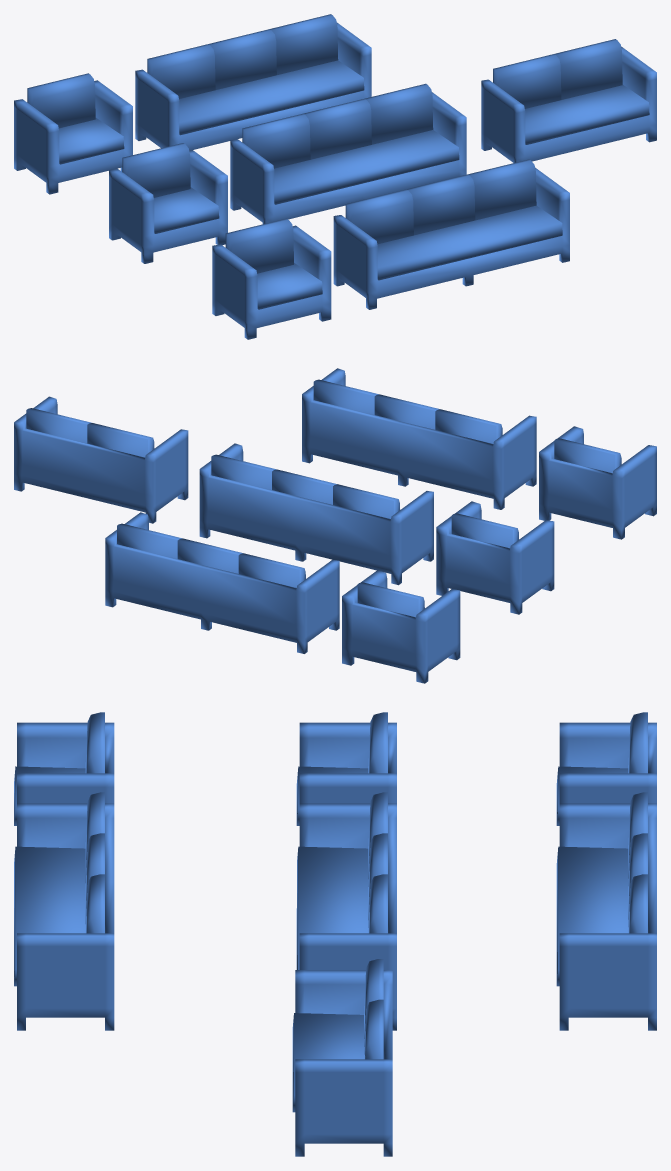
The model's file is old sofas.obj.
3 renders of one model, top to bottom at view 1: azimuth 30°, elevation 25°; view 2: azimuth 150°, elevation 25°; view 3: azimuth 270°, elevation 25°, orthographic. The views are drawn at different scales.
Visible parts, largest first — view 1: couchinbase01_low, couchinbase02_low, couchinbase03_low, couchin01_low, couchin02_low, couchin_low, couchinbase_low, couchinbasesingle01_low, couchinbasesingle02_low, couchinbasesingle_low, couchin03_low, Couchinr01_low (+16 smaller); view 2: couchinbase02_low, couchinbase01_low, couchinbase_low, couchinbase03_low, couchinbasesingle_low, couchinbasesingle02_low, couchinbasesingle01_low, Couchinsingle02_low, Couchinsingle_low, Couchinsingle01_low, Couchinl_low, Couchinl01_low (+9 smaller); view 3: couchinbase01_low, couchinbase_low, couchinbase03_low, couchinbase02_low, couchinbasesingle01_low, couchinbasesingle02_low, couchinbasesingle_low, couchin_low, couchin02_low, couchin01_low, couchin03_low, Couchinsingle_low (+16 smaller).
Part boxes in pixels (left/top/right/bottom): couchinbase01_low: left=333, top=167, right=569, bottom=309; couchinbase02_low: left=230, top=92, right=466, bottom=224; couchinbase03_low: left=481, top=46, right=656, bottom=162; couchin01_low: left=377, top=205, right=562, bottom=280; couchin02_low: left=274, top=130, right=459, bottom=204; couchin_low: left=179, top=60, right=364, bottom=135; couchinbase_low: left=135, top=22, right=371, bottom=150; couchinbasesingle01_low: left=212, top=225, right=331, bottom=339; couchinbasesingle02_low: left=109, top=150, right=227, bottom=263; couchinbasesingle_low: left=14, top=80, right=132, bottom=194; couchin03_low: left=525, top=85, right=649, bottom=144; Couchinr01_low: left=468, top=159, right=536, bottom=220; couchinbase02_low: left=199, top=443, right=433, bottom=585; couchinbase01_low: left=302, top=368, right=536, bottom=509; couchinbase_low: left=105, top=512, right=339, bottom=653; couchinbase03_low: left=14, top=396, right=188, bottom=523; couchinbasesingle_low: left=342, top=570, right=460, bottom=683; couchinbasesingle02_low: left=436, top=501, right=554, bottom=614; couchinbasesingle01_low: left=539, top=426, right=656, bottom=539; Couchinsingle02_low: left=451, top=513, right=518, bottom=548; Couchinsingle_low: left=357, top=582, right=424, bottom=617; Couchinsingle01_low: left=554, top=438, right=621, bottom=473; Couchinl_low: left=238, top=553, right=305, bottom=587; Couchinl01_low: left=435, top=409, right=502, bottom=443; couchinbase01_low: left=17, top=803, right=114, bottom=1030; couchinbase_low: left=559, top=803, right=656, bottom=1030; couchinbase03_low: left=295, top=970, right=392, bottom=1156; couchinbase02_low: left=299, top=803, right=396, bottom=1030; couchinbasesingle01_low: left=17, top=722, right=114, bottom=803; couchinbasesingle02_low: left=299, top=722, right=396, bottom=803; couchinbasesingle_low: left=559, top=722, right=656, bottom=803; couchin_low: left=556, top=846, right=628, bottom=986; couchin02_low: left=296, top=846, right=368, bottom=969; couchin01_low: left=14, top=846, right=85, bottom=986; couchin03_low: left=292, top=1013, right=363, bottom=1112; Couchinsingle_low: left=628, top=712, right=647, bottom=773.
Size of the model in its own units: 168 by 25.33 by 134.
